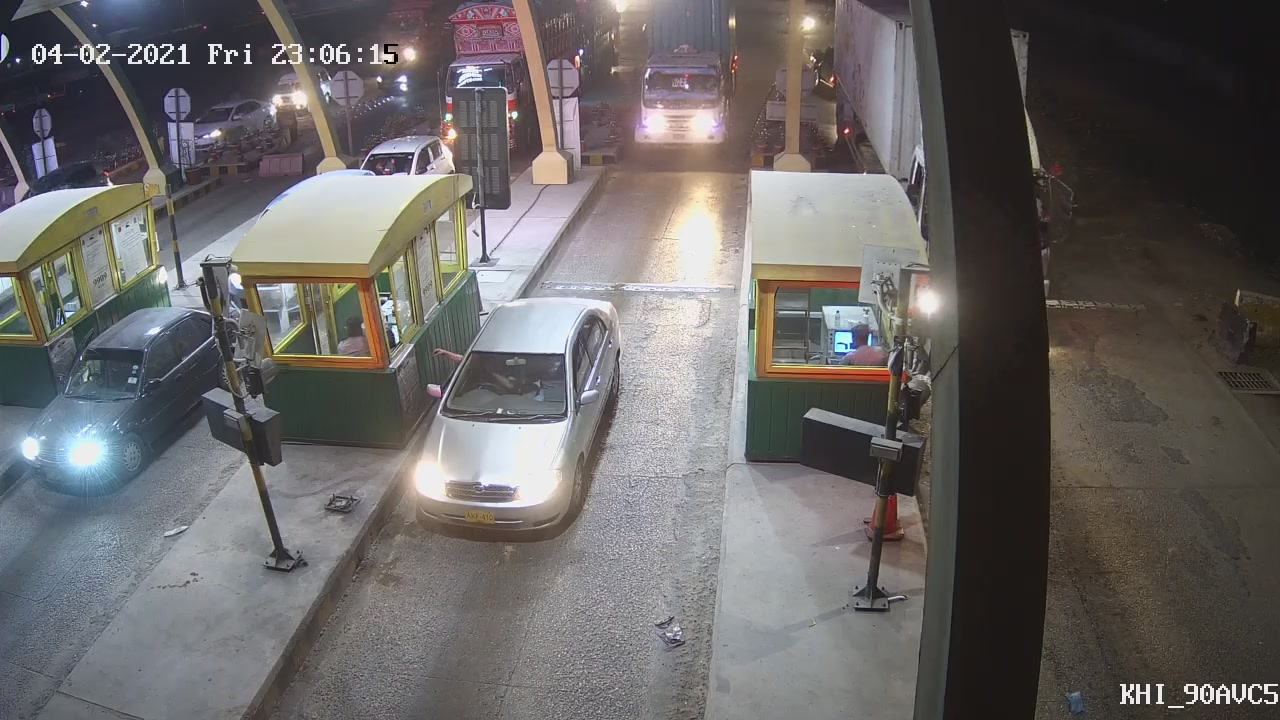F1: (404, 296, 632, 533)
